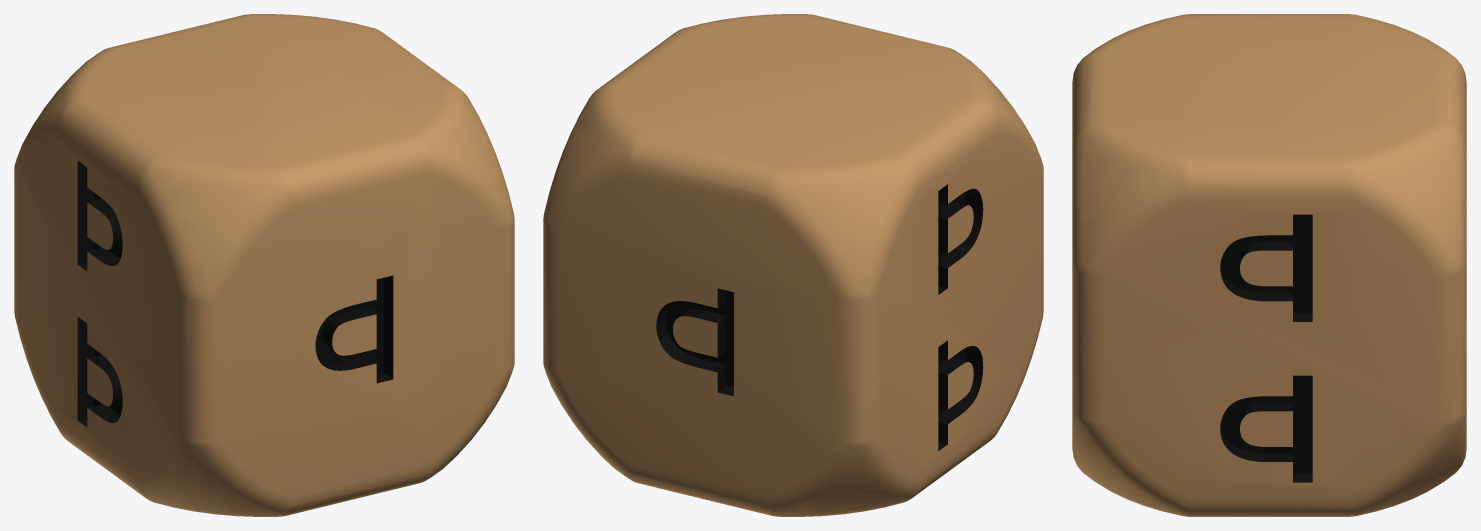
File: DieExitQtyPics.glb
3 views of the same model, side by side, from view 1: azimuth 30°, elevation 25°; view 2: azimuth 150°, elevation 25°; view 3: azimuth 270°, elevation 25° (orthographic). The views are drawn at different scales.
Visible parts, largest first — view 1: Die_Body; view 2: Die_Body; view 3: Die_Body.
Part boxes in pixels (bbox=[...]): Die_Body: bbox=[14, 14, 514, 516]; Die_Body: bbox=[543, 14, 1043, 516]; Die_Body: bbox=[1072, 14, 1466, 516].
Bounding box in the file's own units: 1 × 1 × 1.
